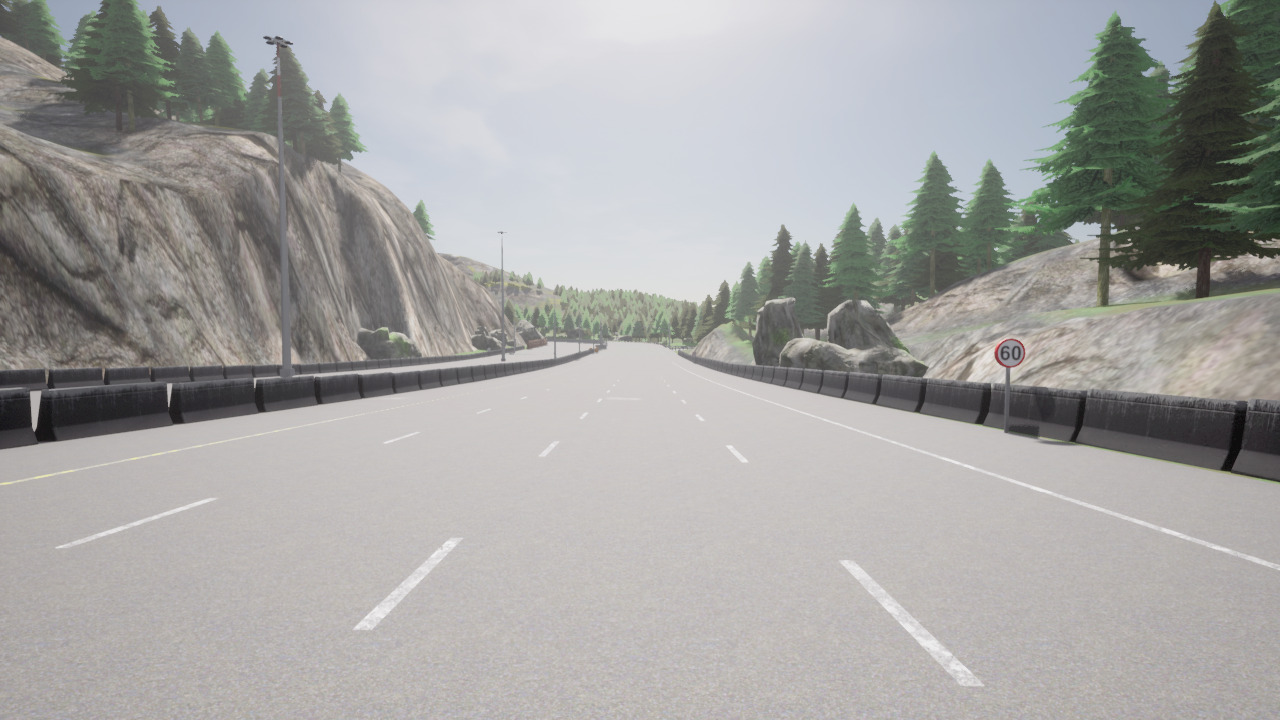sl60: (993, 337, 1027, 369)
